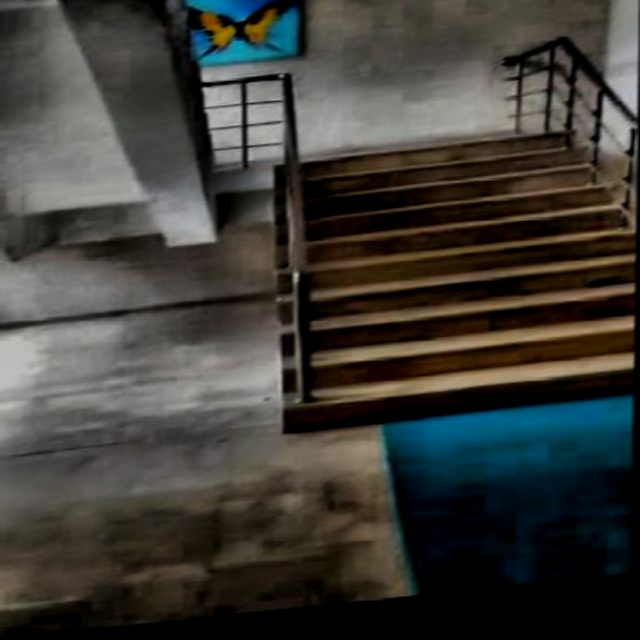stair: (275, 140, 635, 443)
